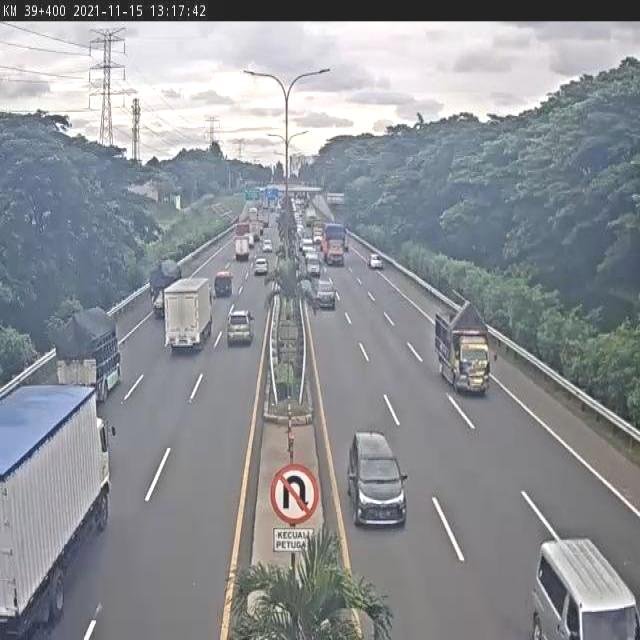Car: (530, 539, 638, 638), (347, 430, 408, 533), (226, 309, 255, 346), (315, 279, 336, 310), (254, 257, 268, 275), (368, 253, 383, 269), (262, 239, 273, 253)
Truck: (0, 383, 117, 640), (54, 308, 122, 403), (434, 302, 500, 398), (162, 277, 215, 352), (322, 222, 346, 267), (233, 236, 250, 264)
